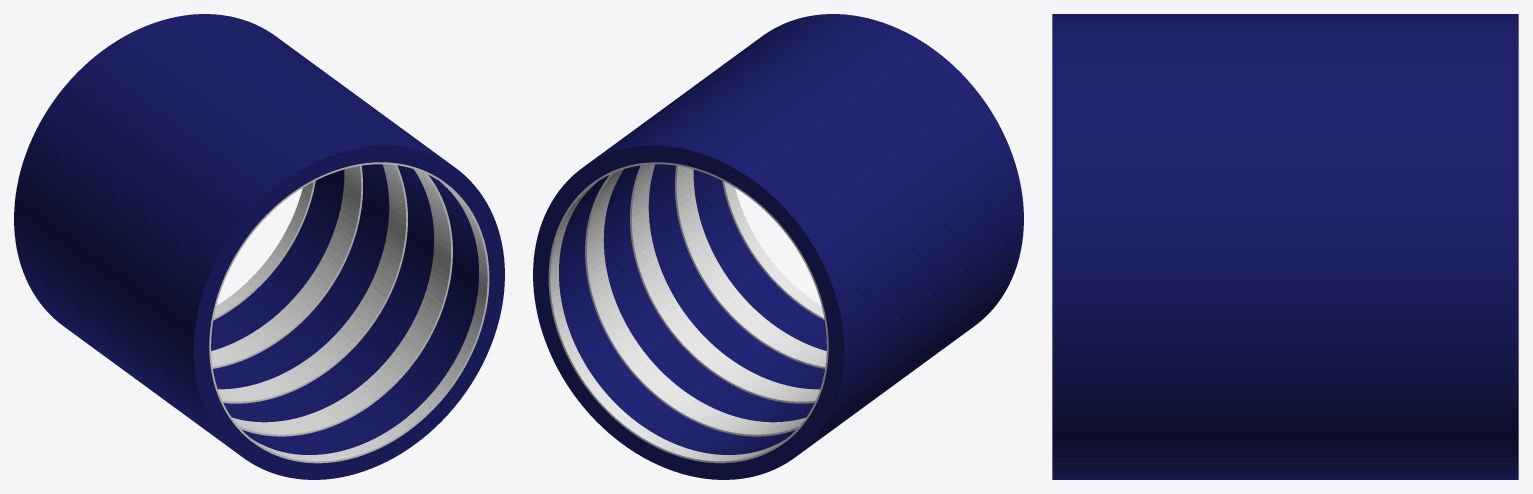
The model's file is tunnel.fbx.
3 views of the same model, side by side, from view 1: azimuth 30°, elevation 25°; view 2: azimuth 150°, elevation 25°; view 3: azimuth 270°, elevation 25° (orthographic). The views are drawn at different scales.
Parts seen in each view (by area): view 1: Цилиндр; view 2: Цилиндр; view 3: Цилиндр.
Part boxes in pixels (<box>): Цилиндр: <box>14,14,504,479</box>; Цилиндр: <box>533,14,1023,479</box>; Цилиндр: <box>1052,14,1518,479</box>.
Bounding box in the file's own units: 800 × 800 × 800.
